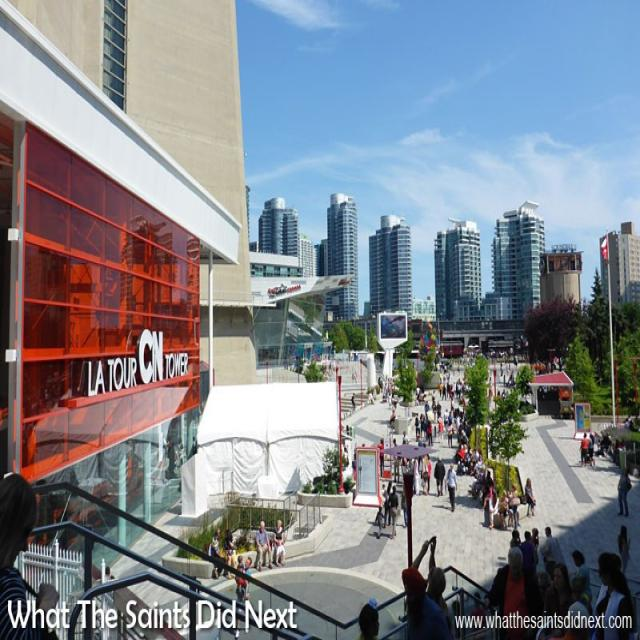body: (364, 340, 566, 410), (0, 470, 62, 638), (482, 544, 544, 639), (260, 338, 362, 384), (412, 535, 451, 639), (590, 550, 634, 640), (401, 565, 452, 640), (25, 362, 68, 428), (540, 558, 574, 639), (164, 432, 198, 497), (590, 429, 638, 474), (233, 555, 253, 639), (559, 599, 592, 640), (570, 548, 594, 602), (520, 530, 538, 599), (453, 420, 482, 460), (570, 574, 594, 621), (254, 518, 274, 572), (356, 597, 380, 640), (540, 526, 558, 583), (466, 476, 494, 512), (207, 526, 225, 579), (411, 451, 432, 496), (615, 464, 632, 518), (222, 527, 238, 580), (469, 591, 487, 634), (617, 524, 632, 575), (450, 599, 468, 640), (234, 554, 250, 599), (508, 480, 522, 531), (455, 459, 491, 478), (272, 518, 286, 566), (386, 484, 398, 540), (432, 450, 446, 497), (446, 461, 458, 513), (523, 476, 536, 518), (399, 483, 409, 528), (578, 431, 590, 468), (488, 490, 498, 529), (431, 410, 469, 420), (392, 438, 400, 483), (377, 437, 385, 478), (374, 504, 386, 531), (509, 528, 522, 548), (621, 413, 636, 430), (588, 432, 595, 468), (446, 418, 454, 447), (426, 419, 434, 447), (437, 414, 444, 444), (414, 412, 422, 438), (418, 412, 426, 438), (498, 489, 508, 508), (531, 526, 540, 546), (384, 478, 394, 493), (381, 482, 387, 506), (388, 409, 396, 426), (350, 391, 356, 412), (416, 438, 426, 447), (402, 430, 408, 444)
